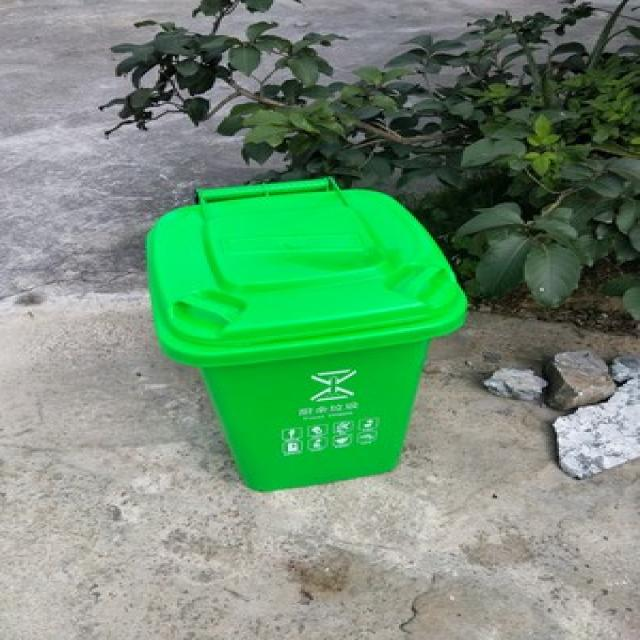ash bin: (140, 176, 473, 491)
